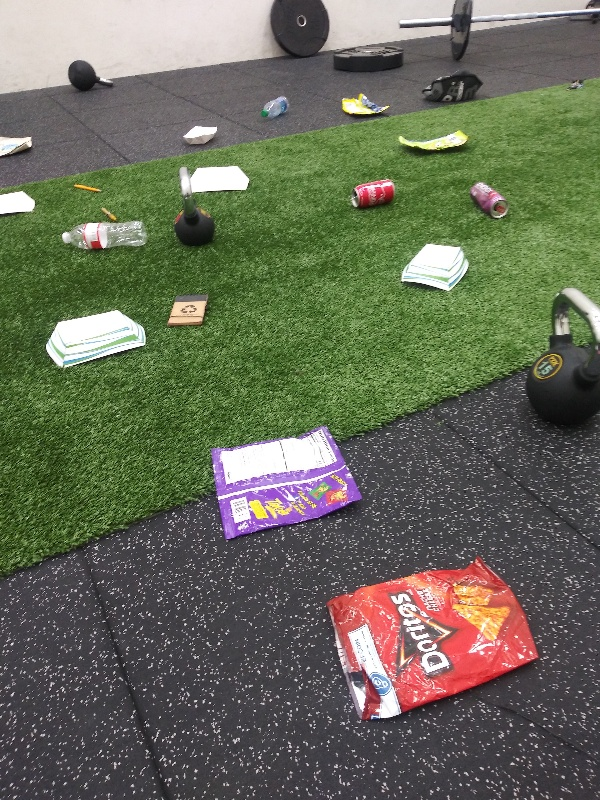bag: (322, 555, 543, 728), (208, 421, 367, 550), (393, 129, 473, 154), (335, 90, 396, 120), (1, 130, 38, 168)
bottle: (57, 217, 149, 254), (257, 90, 296, 120)
can: (463, 178, 511, 224), (348, 178, 400, 213)
plate: (41, 308, 150, 373), (393, 240, 472, 300), (185, 163, 253, 193), (180, 122, 220, 149), (1, 189, 41, 216)
